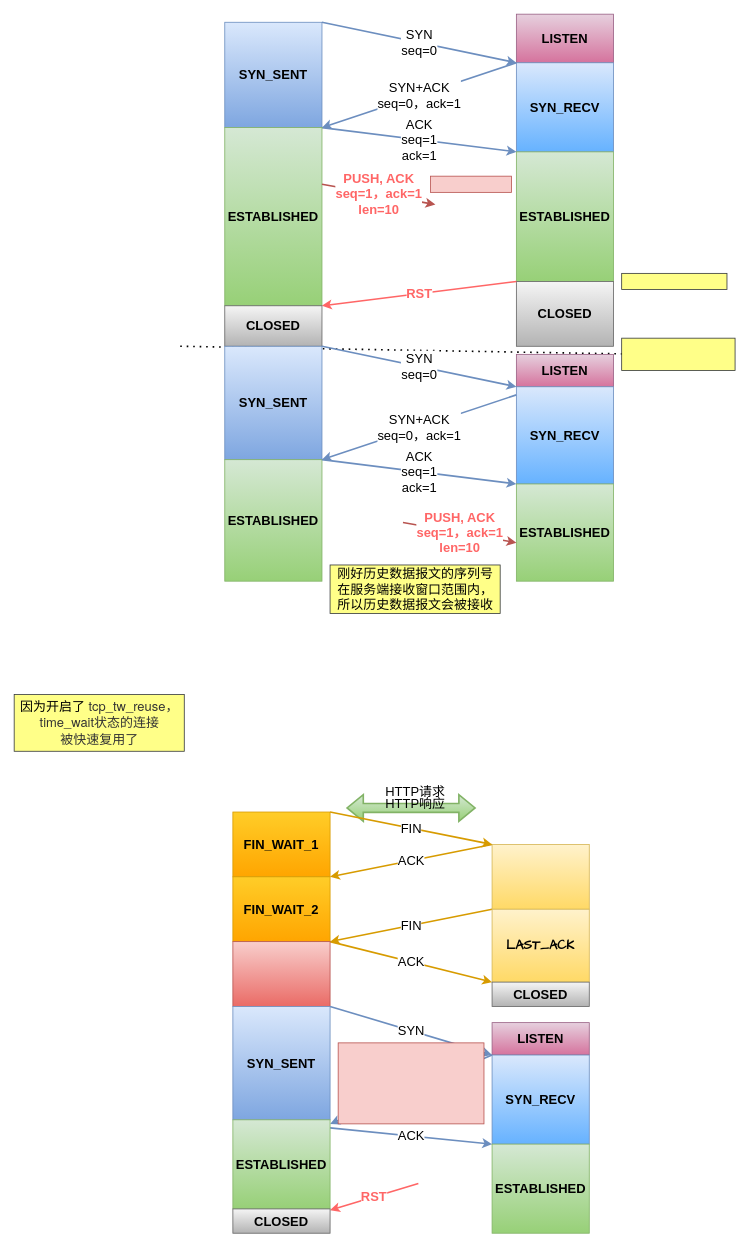
Image size: 749x1247. Some labels were removed from this diagram. The centre of each missing label's shape, as x and y in pixels:
CLOSED_WAIT: the point at 540,876
TIME_WAIT: the point at 281,973
延迟的 RST 抵达了 客户端，而且因为 RST 的序列号正好 在客户端接收窗口内， 所以被接受了: the point at 410,1083
建立与上一个连接 相同四元组的连接: the point at 678,354
服务端进程重启: the point at 674,281
被网络阻塞: the point at 471,183
